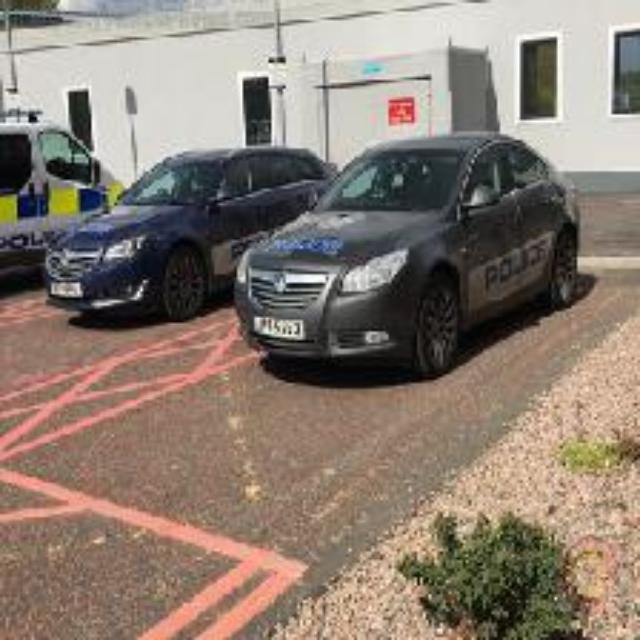emergency: (236, 136, 584, 376), (44, 146, 338, 312), (0, 109, 122, 277)
